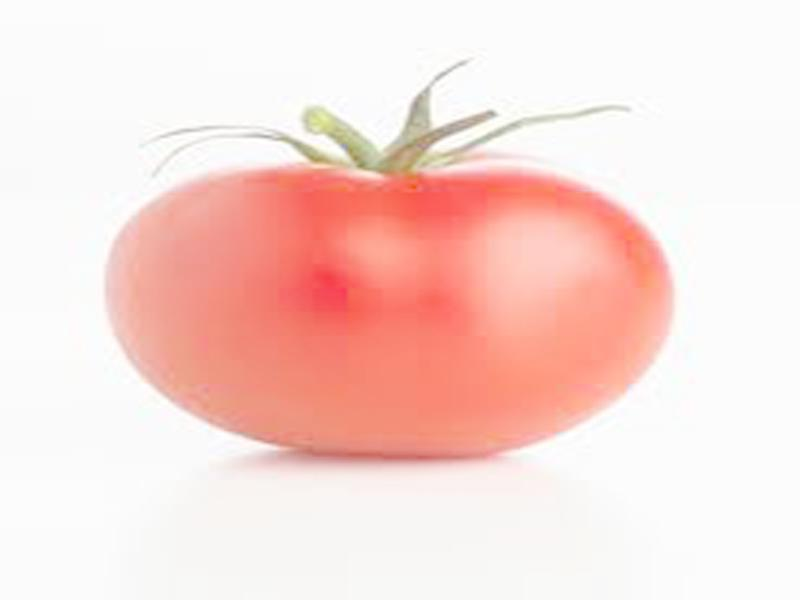Tomato: (109, 162, 674, 456)
